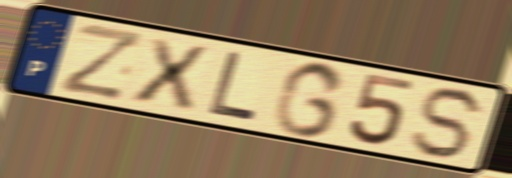5: (348, 72, 419, 148)
G: (270, 59, 350, 140)
L: (204, 48, 260, 126)
S: (407, 85, 491, 162)
X: (128, 34, 212, 113)
Z: (56, 20, 147, 103)
